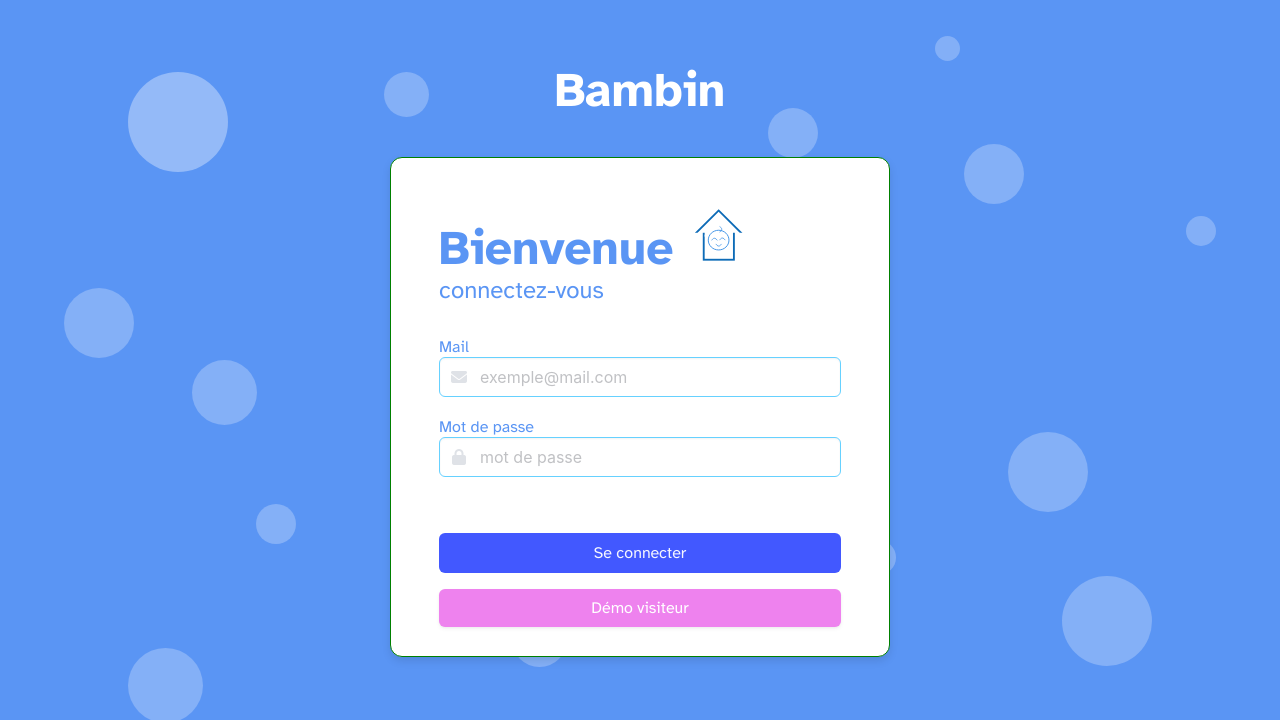
Test: login.vue › resets error message on new login attempt
Type "test@test.com" into the field with placeholder "exemple@mail.com" at (640, 377), box [439,357,841,397]
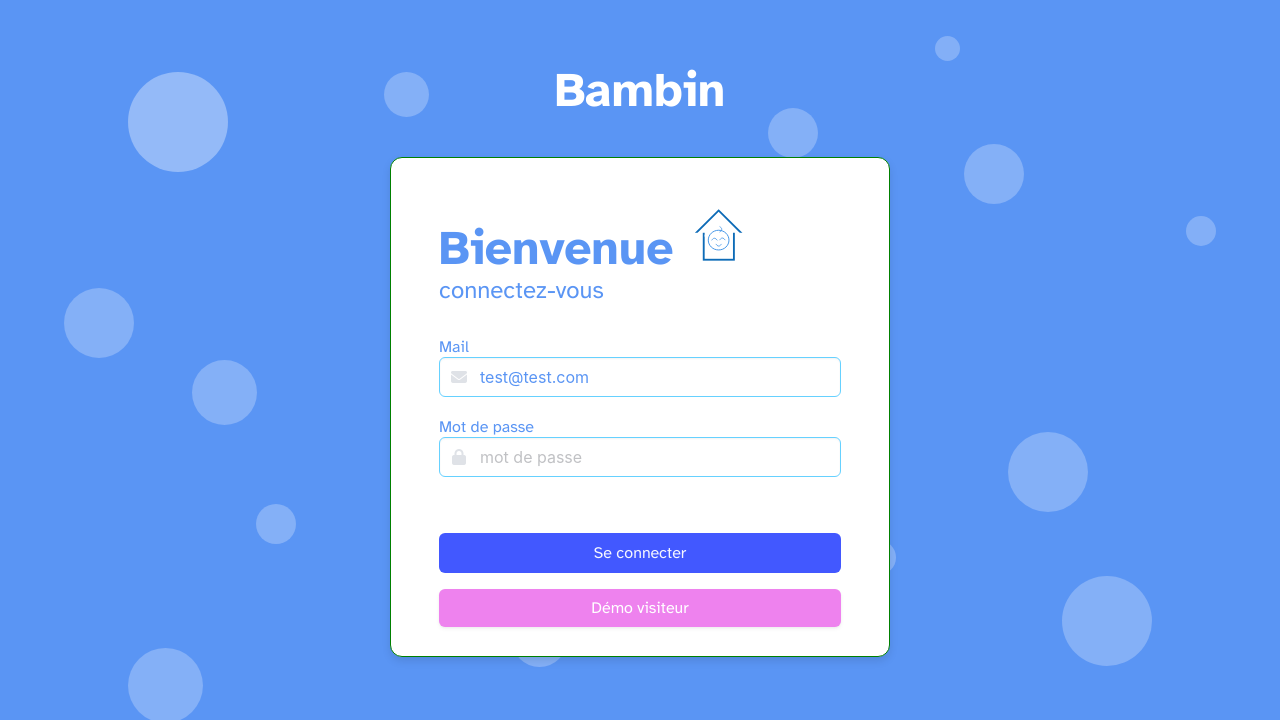
Type "wrong" into the password field with placeholder "mot de passe" at (640, 457), box [439,437,841,477]
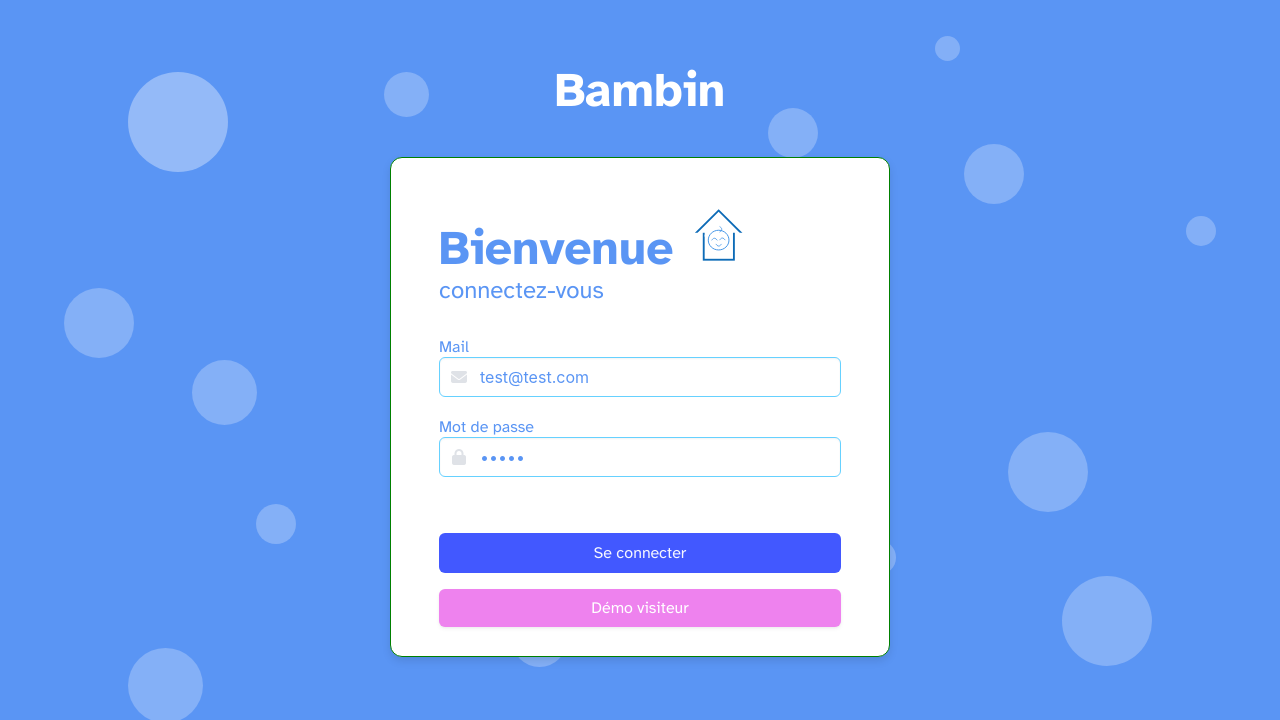
Click the button "Se connecter" at (640, 553), box [439,533,841,573]
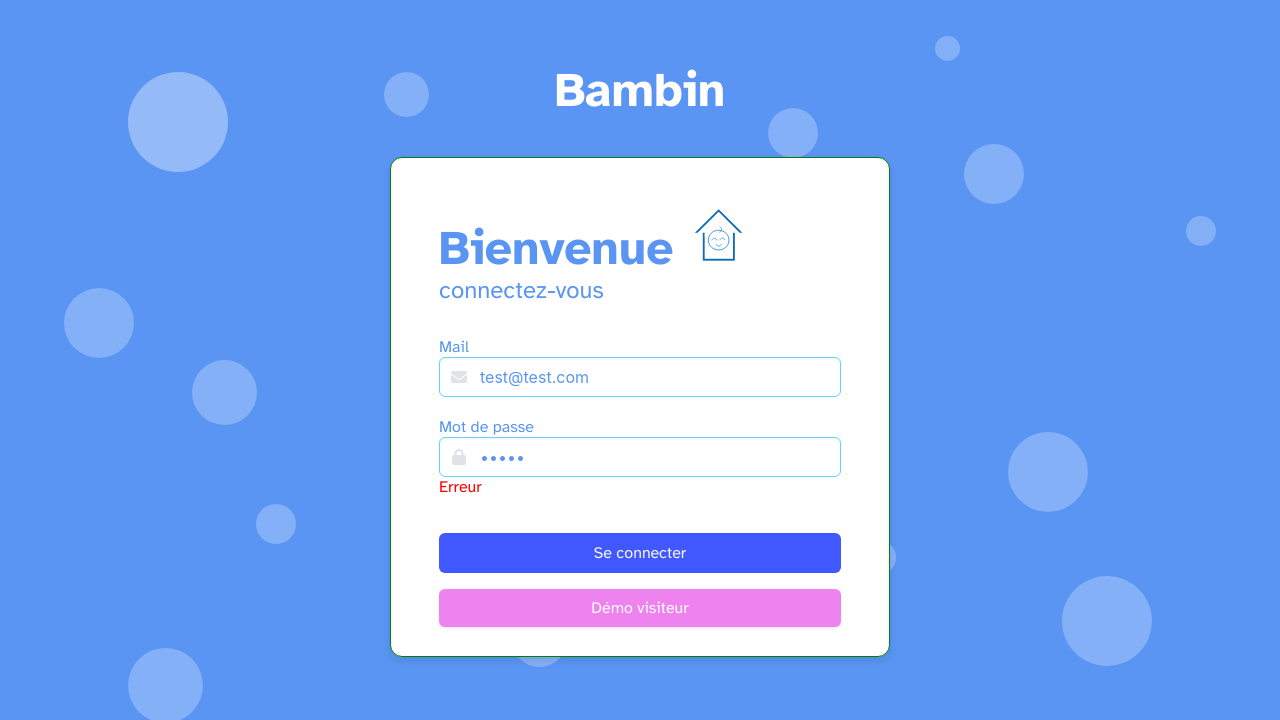
Now the text "Erreur" is shown, box [439,477,482,497]
New attempt
Click the button "Se connecter" at (640, 553), box [439,533,841,573]
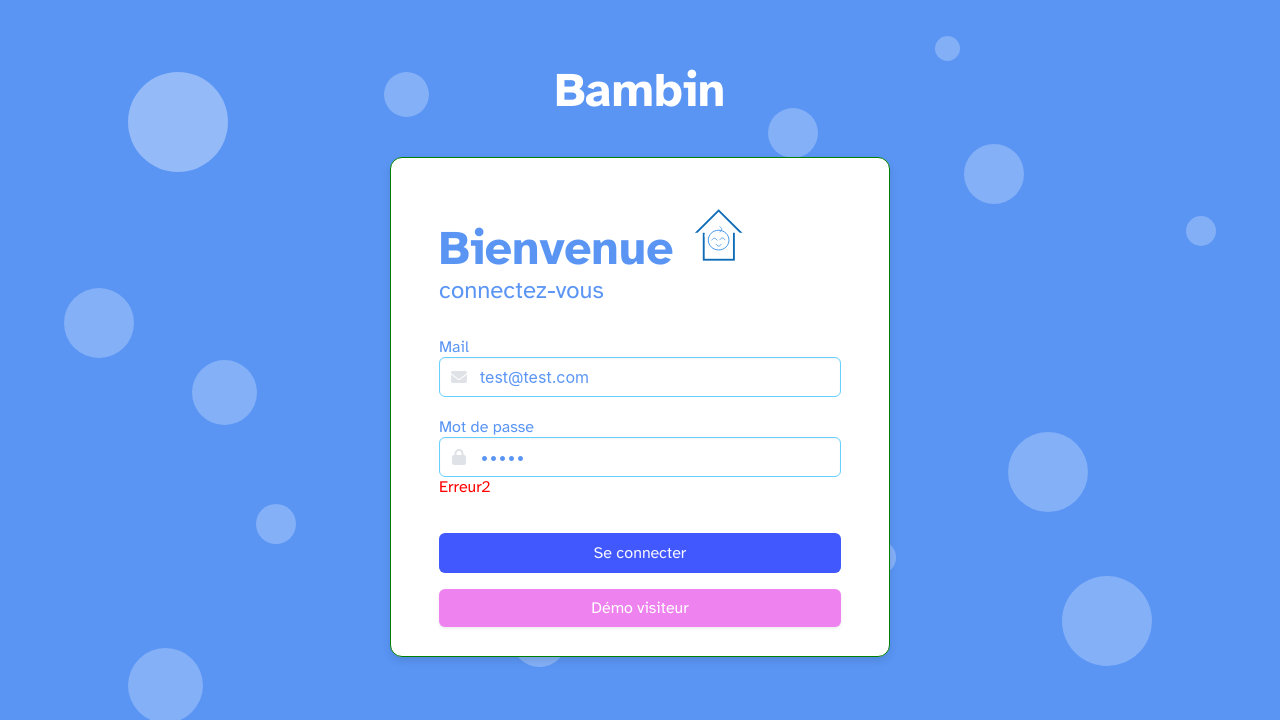
Now the text "Erreur2" is shown, box [439,477,490,497]
